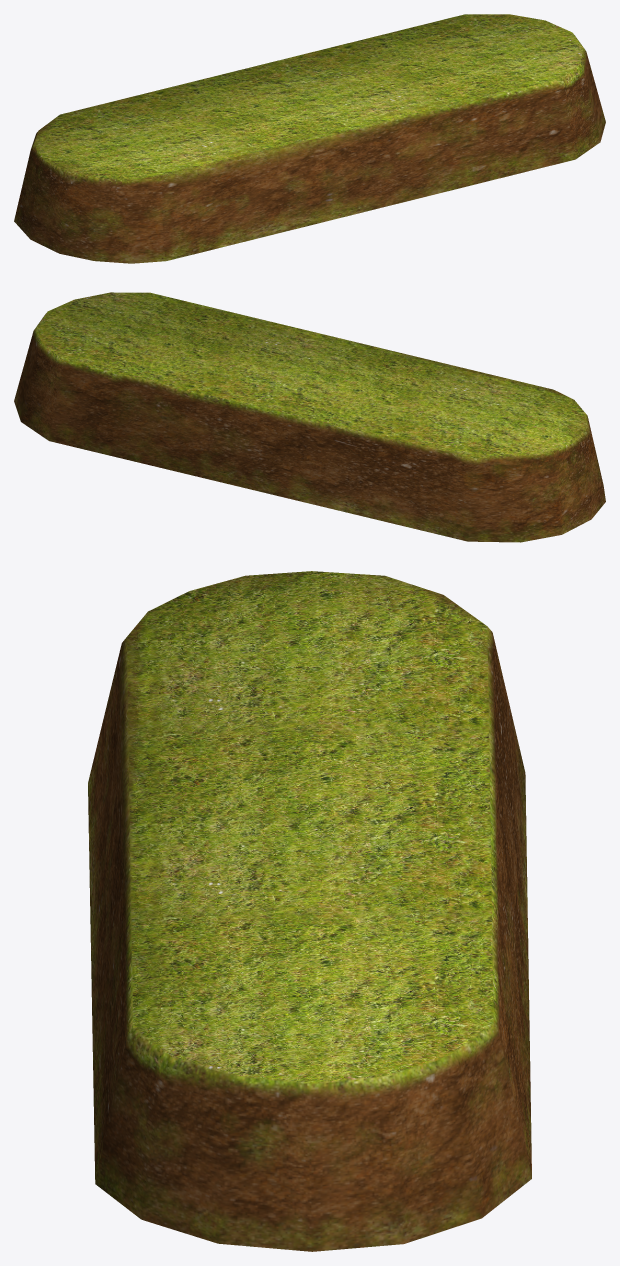
File: ENV2910009.fbx
3 views of the same model, one above another, from view 1: azimuth 30°, elevation 25°; view 2: azimuth 150°, elevation 25°; view 3: azimuth 270°, elevation 25° (orthographic). The views are drawn at different scales.
Parts seen in each view (by area): view 1: smENV2910009; view 2: smENV2910009; view 3: smENV2910009.
Part boxes in pixels (x1=…): smENV2910009: x1=14, y1=14, x2=605, y2=263; smENV2910009: x1=14, y1=292, x2=605, y2=542; smENV2910009: x1=88, y1=571, x2=531, y2=1251.
Size of what is drawn, in the model's own units: 1995 by 256 by 685.
1 material, 1 textured.
